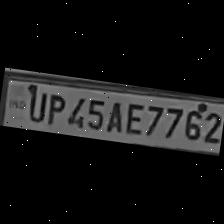2: (199, 108, 223, 144)
4: (64, 92, 89, 130)
5: (80, 94, 106, 132)
6: (179, 106, 203, 142)
7: (158, 103, 182, 141), (141, 102, 163, 139)
A: (102, 96, 125, 134)
E: (120, 99, 146, 138)
P: (42, 89, 66, 127)
U: (24, 86, 46, 124)
